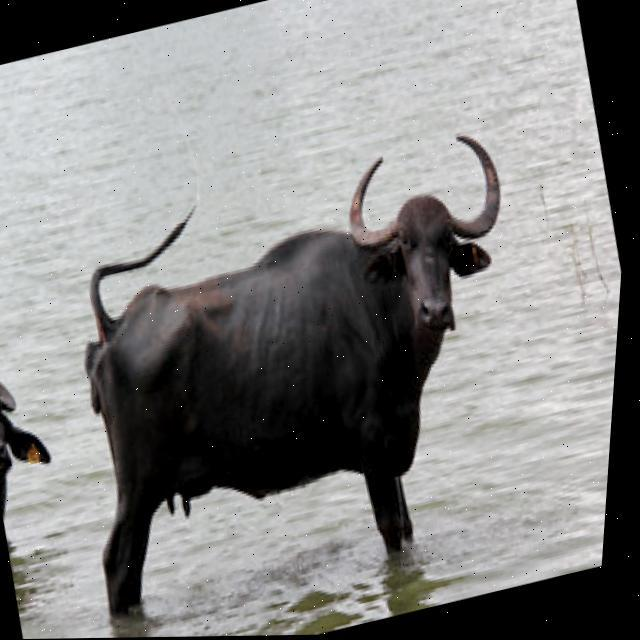Buffalo: (16, 117, 577, 623)
